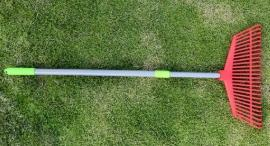RATEAU: (0, 23, 268, 133)
